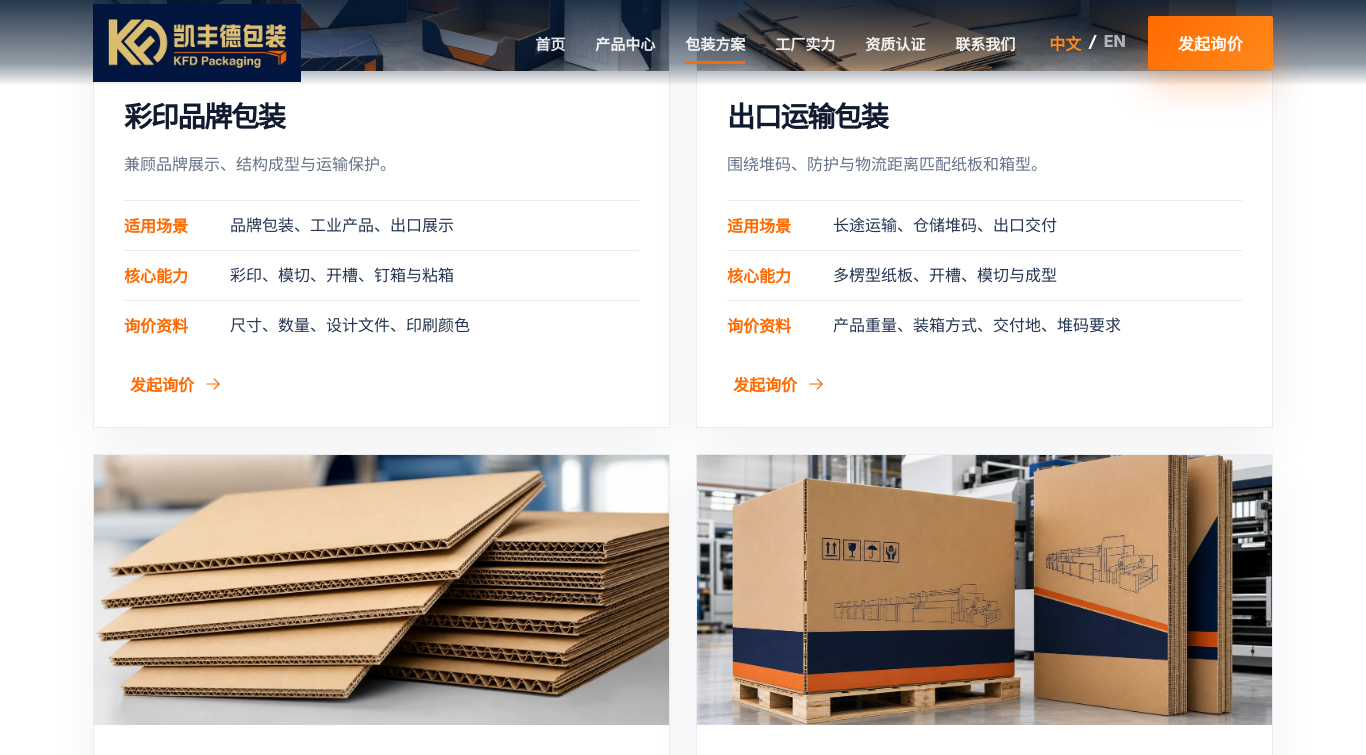
Scenario: KFD website › solutions use real images, practical proof fields and a preselected quote
(page scrolled)
Step 1. Click the button with aria-label "咨询彩印品牌包装" → (176, 384), box x1=124 y1=371 x2=228 y2=397
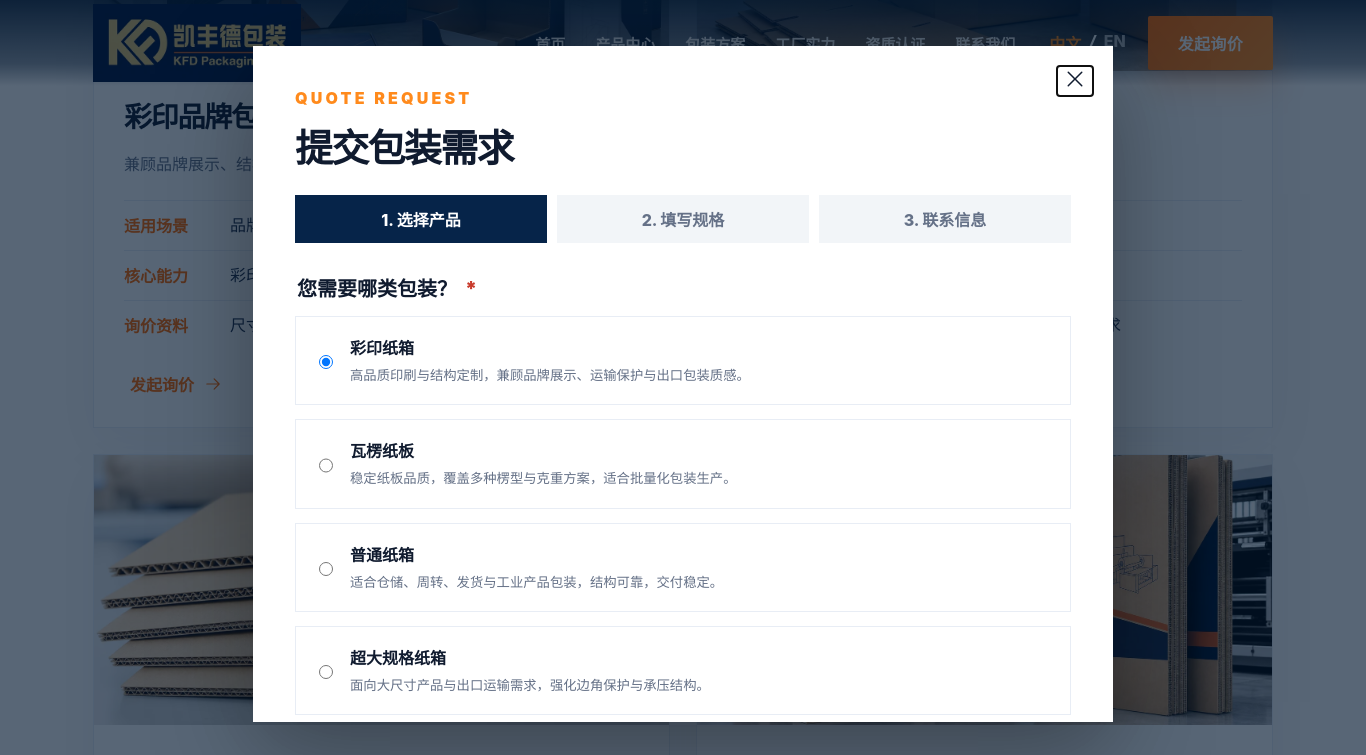
Expected: the radio button labelled "彩印纸箱" is checked, x1=319 y1=338 x2=333 y2=386
